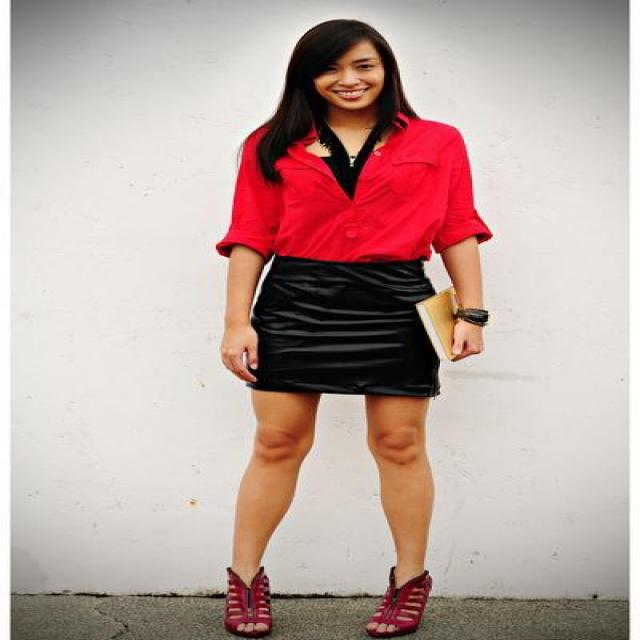dress: (250, 116, 438, 398)
jacket: (219, 115, 491, 268)
shoe: (225, 576, 430, 639)
